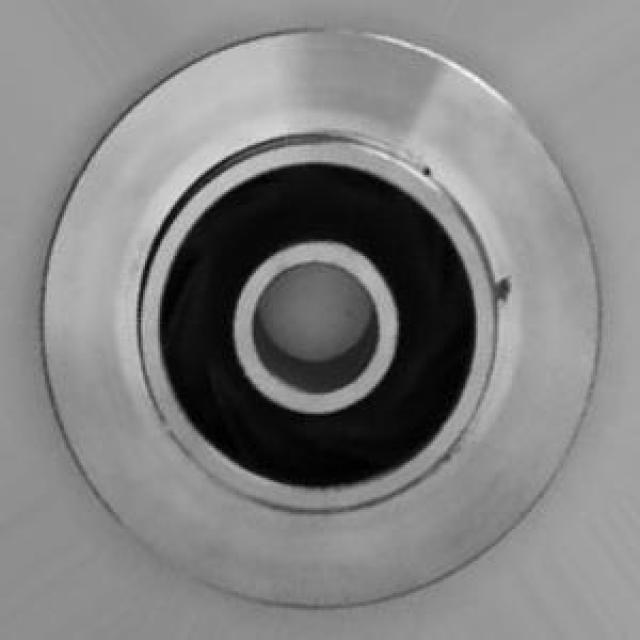Defect: (492, 271, 512, 308)
